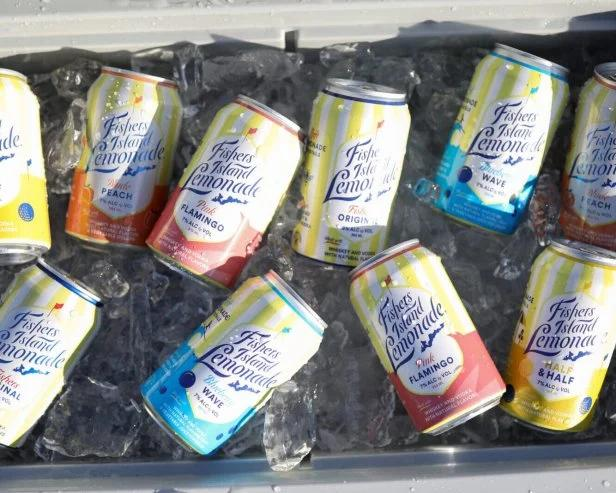can: (141, 270, 326, 455), (146, 95, 303, 288), (351, 239, 505, 432), (414, 43, 567, 233), (292, 78, 410, 266), (501, 239, 615, 431), (66, 68, 182, 247), (0, 258, 102, 448), (0, 67, 51, 284), (559, 62, 615, 250)
